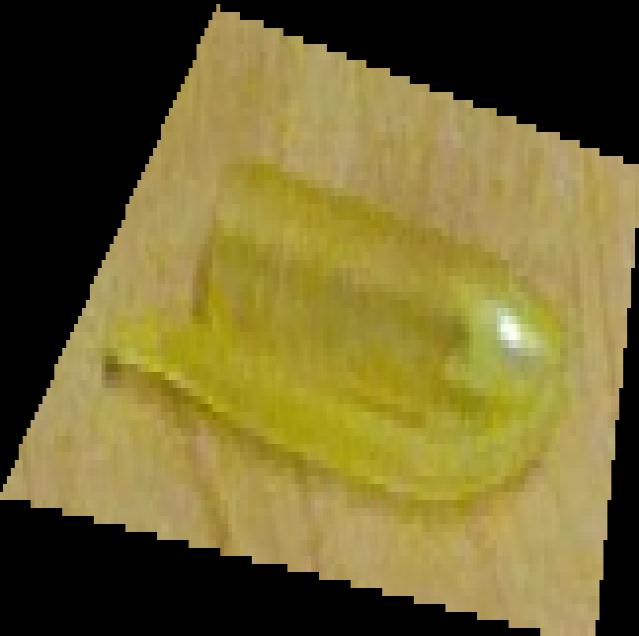yellow: (0, 1, 639, 636)
